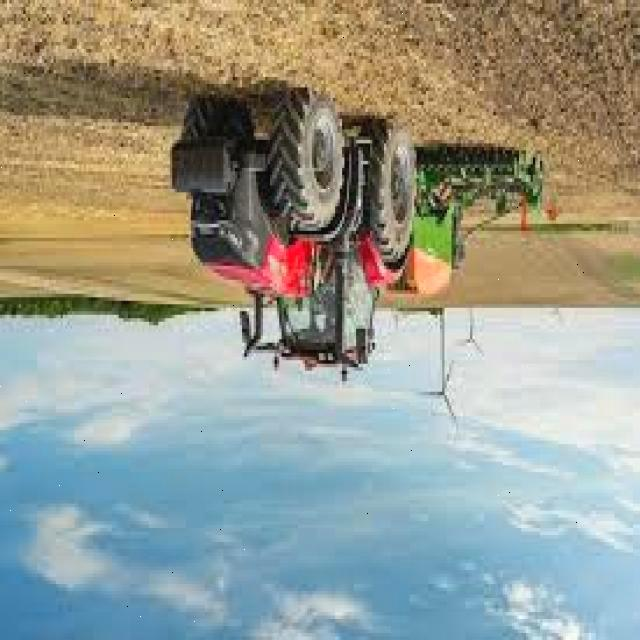Tratores - v5 YOLO V8L 2024-11-13: (178, 89, 417, 369)
